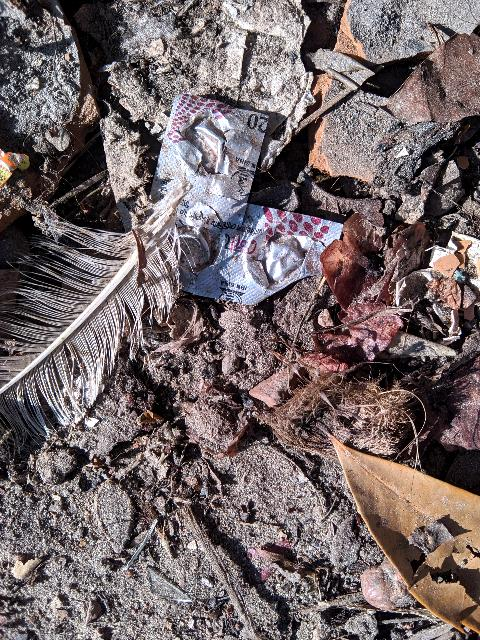medicine: (155, 104, 352, 310)
